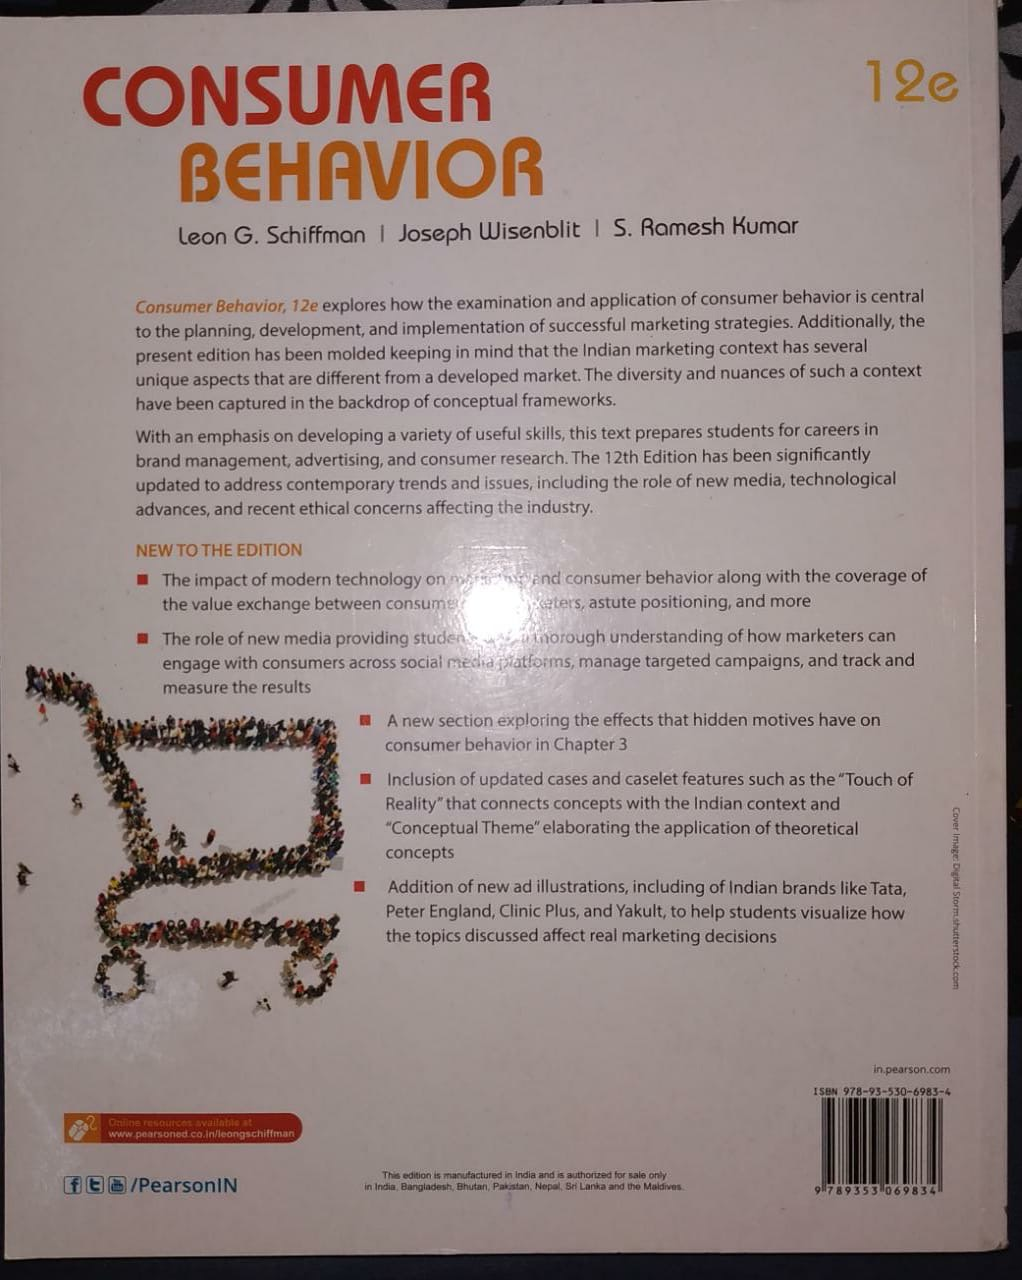barcode: (809, 1076, 962, 1210)
